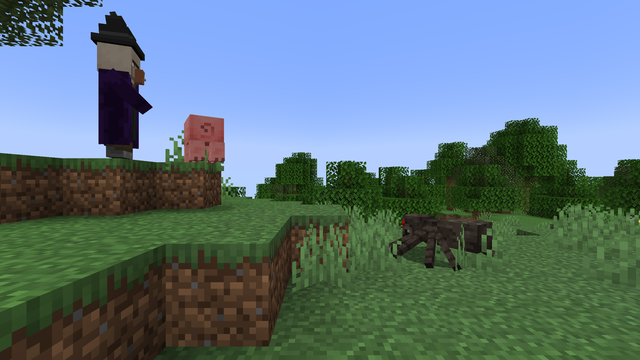araignees: (394, 209, 490, 265)
cochons: (169, 114, 230, 162)
sorcieres: (87, 37, 148, 159)
